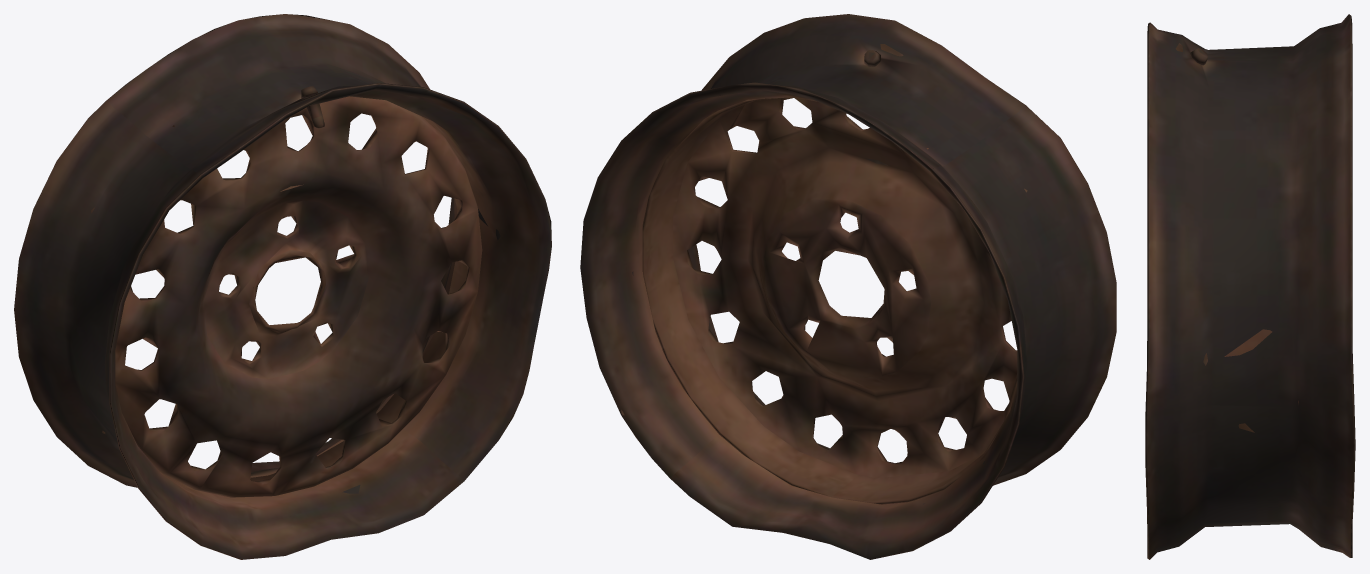
The model's file is rusted_wheel_rim_01.glb.
3 renders of one model, left to right at view 1: azimuth 30°, elevation 25°; view 2: azimuth 150°, elevation 25°; view 3: azimuth 270°, elevation 25°, orthographic. The views are drawn at different scales.
Parts seen in each view (by area): view 1: rusted_wheel_rim_01; view 2: rusted_wheel_rim_01; view 3: rusted_wheel_rim_01.
Boxes of the visible parts, left/top/right/bottom form: rusted_wheel_rim_01: left=14, top=14, right=551, bottom=559; rusted_wheel_rim_01: left=580, top=14, right=1116, bottom=559; rusted_wheel_rim_01: left=1145, top=14, right=1355, bottom=559.
Size of the model in its own units: 0.4016 by 0.3938 by 0.1539.
1 material, 1 textured.
